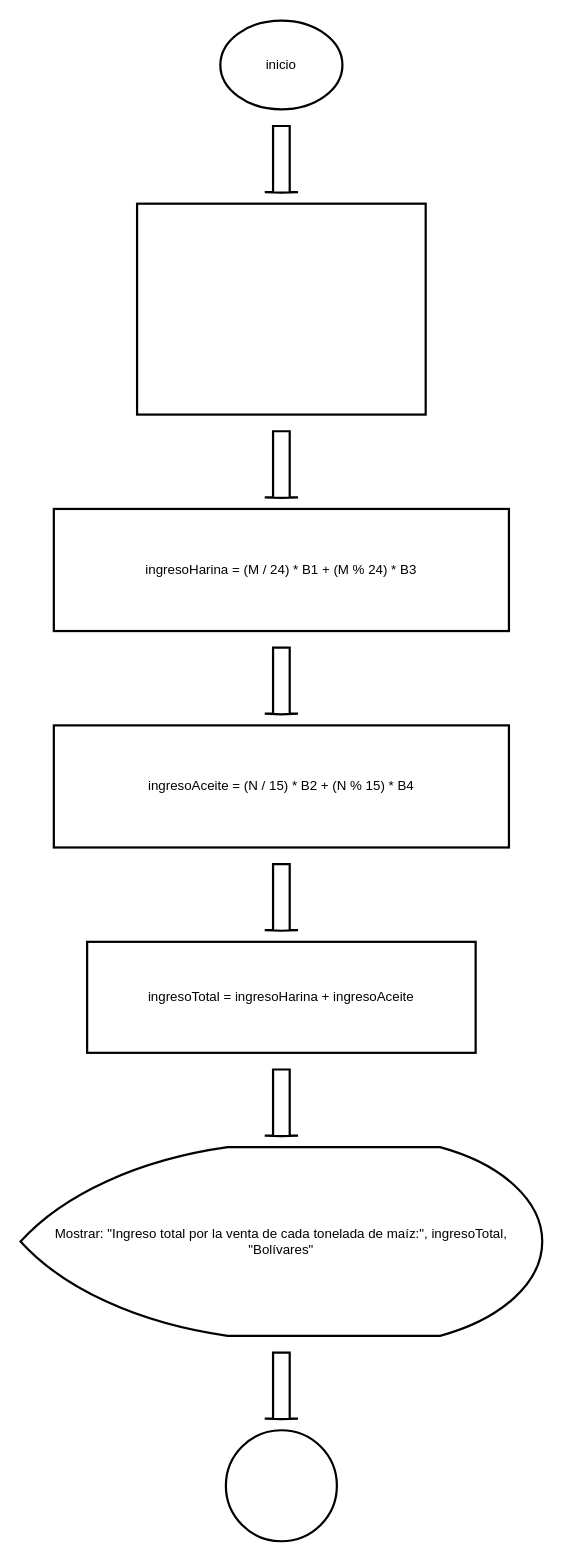
This 562x1561 diagram has some shape labels left out. The centre of each missing label's shape, as x and y in pixels:
fin: (280,1485)
M = 452 N = 197 B1 = 132 B2 = 180 B3 = 7.50 B4 = 14.50: (280,308)
